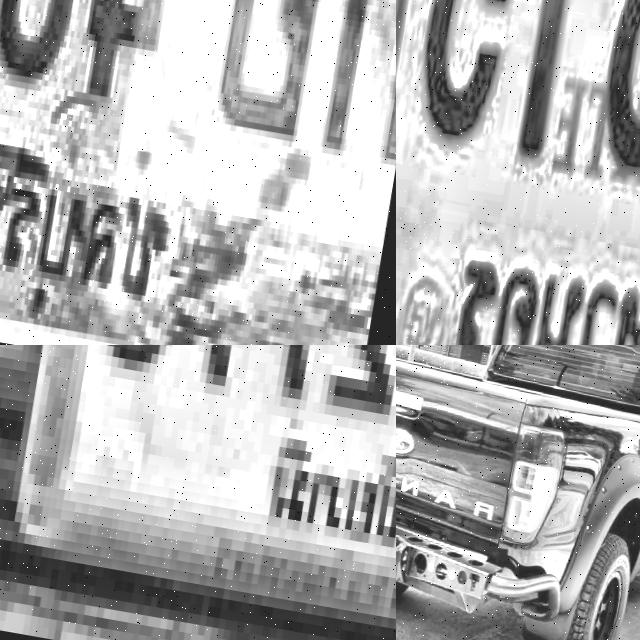license-plate: (0, 0, 396, 345), (1, 345, 396, 640), (396, 0, 640, 345)
